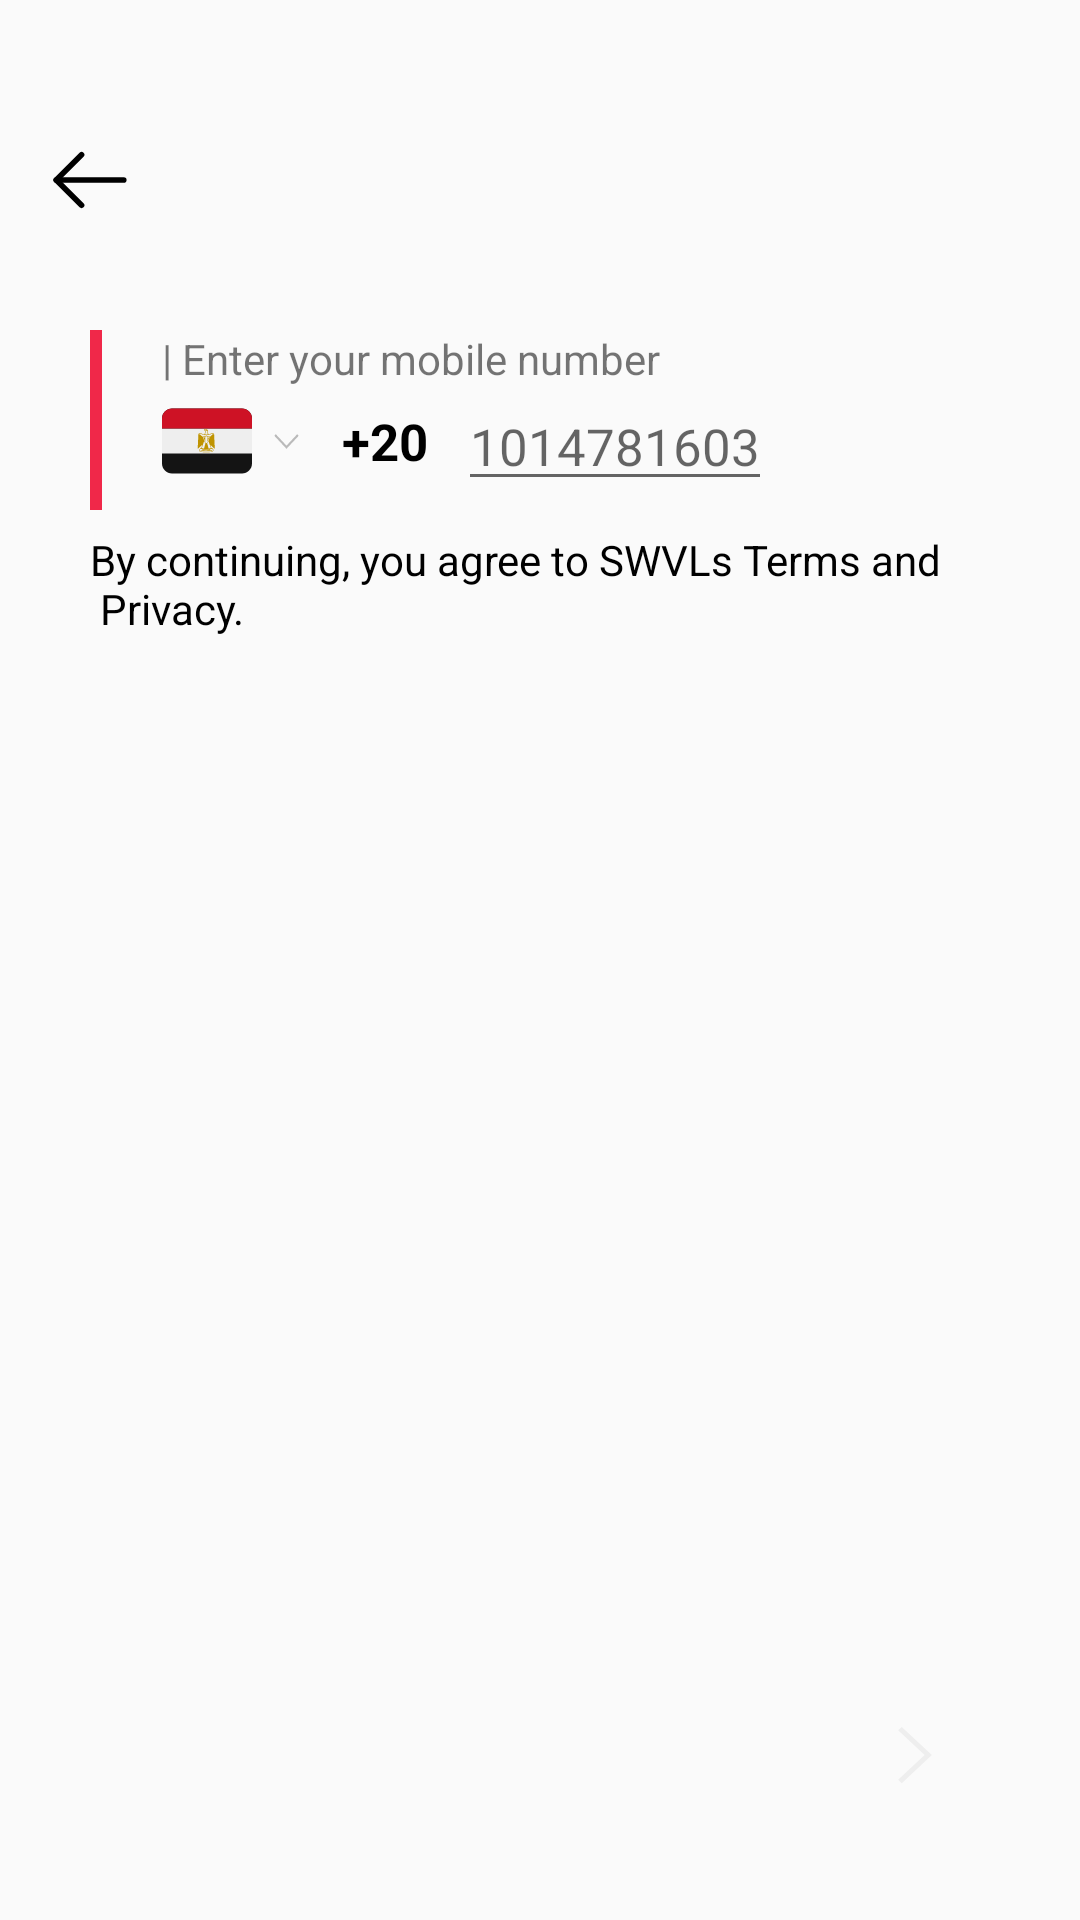

Named icons in this screenshot (1080px x 1920px) and their centers, [x,y]:
flag egypt: [207,441]
left arrow: [90,180]
